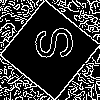S: (25, 25, 74, 63)
